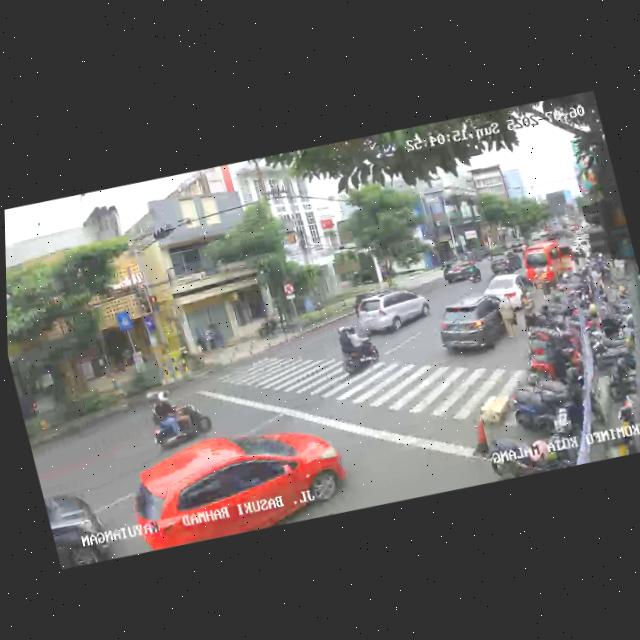car: (118, 408, 354, 558), (42, 478, 116, 570), (432, 291, 517, 364), (346, 280, 434, 344), (520, 234, 584, 292), (479, 268, 540, 317), (439, 255, 483, 290), (487, 249, 521, 278)
motorcycle: (139, 384, 217, 457), (333, 318, 384, 380)
